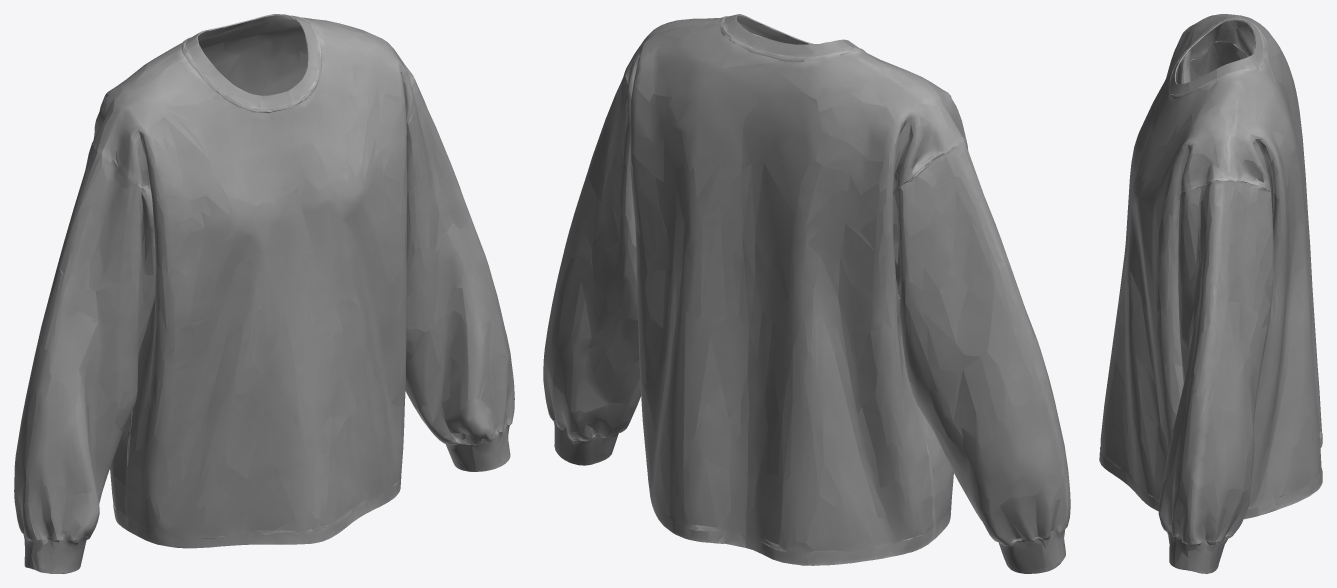
File: longsleeve.glb
3 renders of one model, left to right at view 1: azimuth 30°, elevation 25°; view 2: azimuth 150°, elevation 25°; view 3: azimuth 270°, elevation 25°, orthographic. The views are drawn at different scales.
Bounding box in the file's own units: 1.9 × 1.75 × 0.8197.
1 material, 1 textured.
